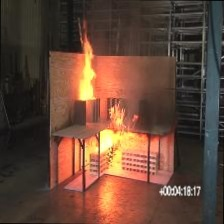fire: (64, 17, 114, 112), (87, 105, 148, 172)
